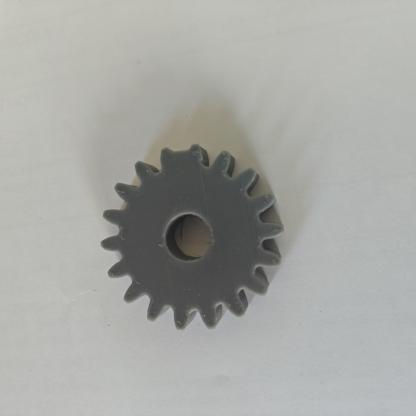defect: (147, 132, 214, 184)
gear: (91, 124, 293, 352)
